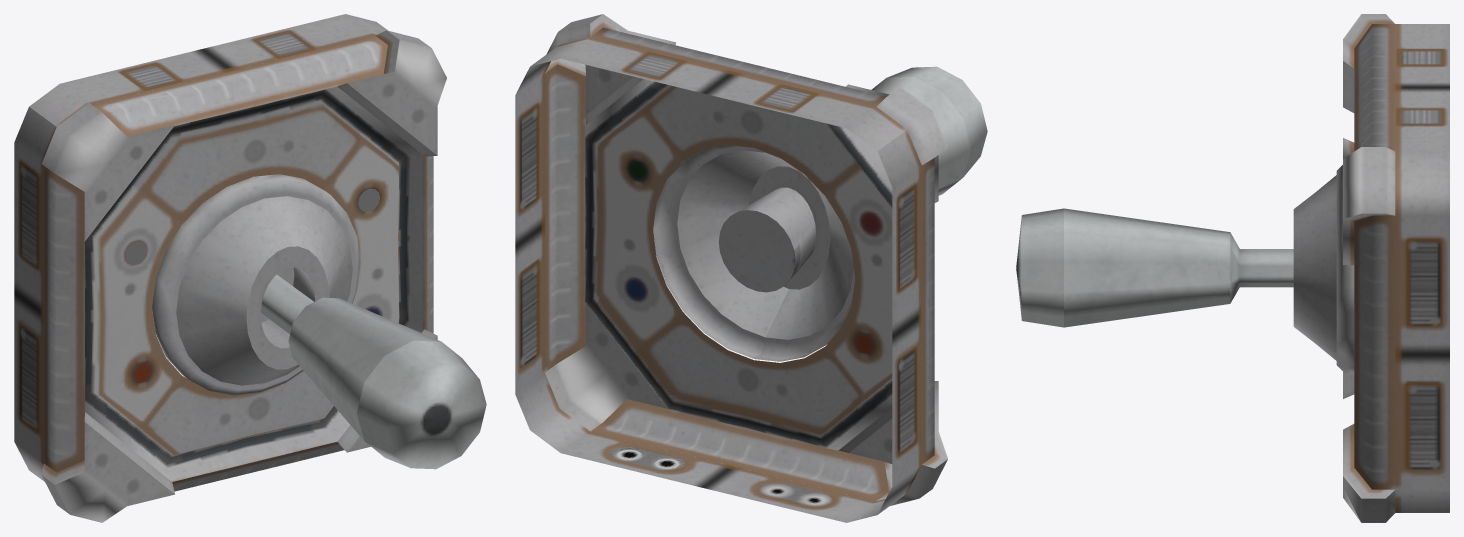
The model's file is Lever A1G.fbx.
The picture shows the model from 3 angles, left to right: view 1: azimuth 30°, elevation 25°; view 2: azimuth 150°, elevation 25°; view 3: azimuth 270°, elevation 25°; orthographic projection. The views are drawn at different scales.
Visible parts, largest first — view 1: Lever A1G, LeverHandle A1G; view 2: Lever A1G, LeverHandle A1G; view 3: Lever A1G, LeverHandle A1G.
Boxes of the visible parts, x1,y1,x2,y2 form: Lever A1G: (14, 14, 446, 522); LeverHandle A1G: (260, 274, 486, 469); Lever A1G: (515, 14, 947, 522); LeverHandle A1G: (871, 66, 987, 195); Lever A1G: (1293, 14, 1449, 522); LeverHandle A1G: (1016, 208, 1293, 327).
Bounding box in the file's own units: 16.58 × 16.58 × 17.33.
3 materials, 1 textured.
